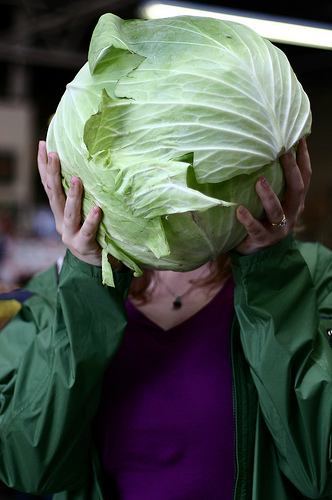cabbage: (45, 10, 314, 288)
